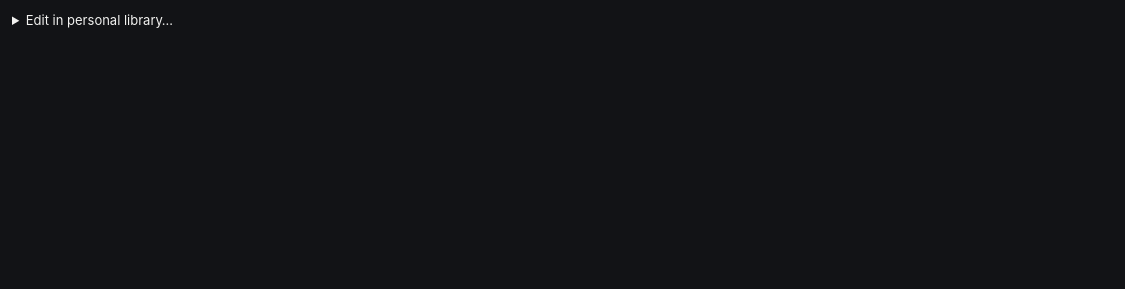
ComponentEditor › disables Save with the reason while the id is unusable
This screenshot has width=1125, height=289.
Click the heading "Edit in personal library…": (99, 20) [26,12,173,28]
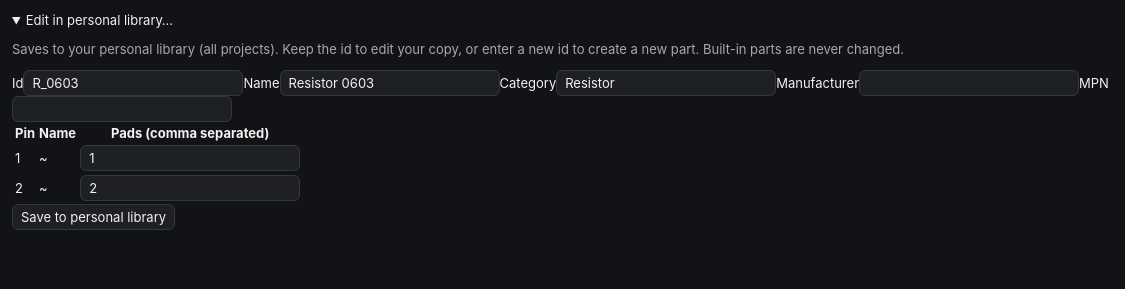
Replace the text in the field named "Personal part id" with "a/b": (134, 83) [24,70,244,96]
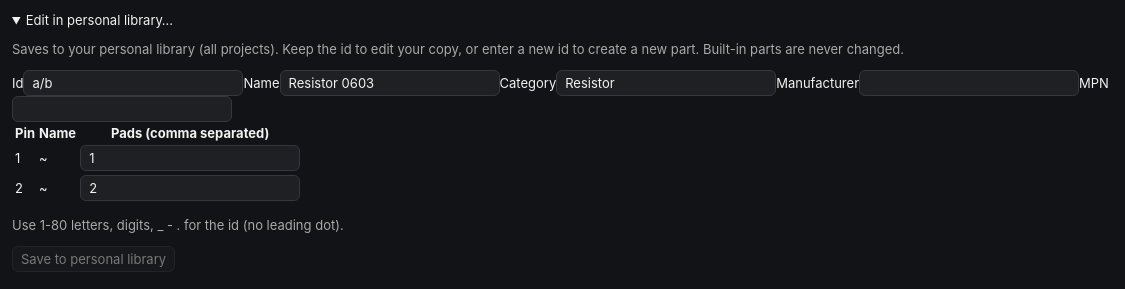
Check: the button "Save to personal library" is disabled, box [12,246,175,272]
Check: the text "letters, digits" is shown, box [12,217,344,233]
